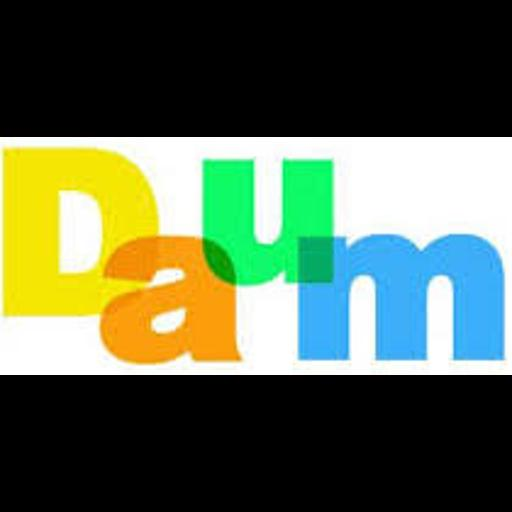Daum: (0, 137, 512, 375)
